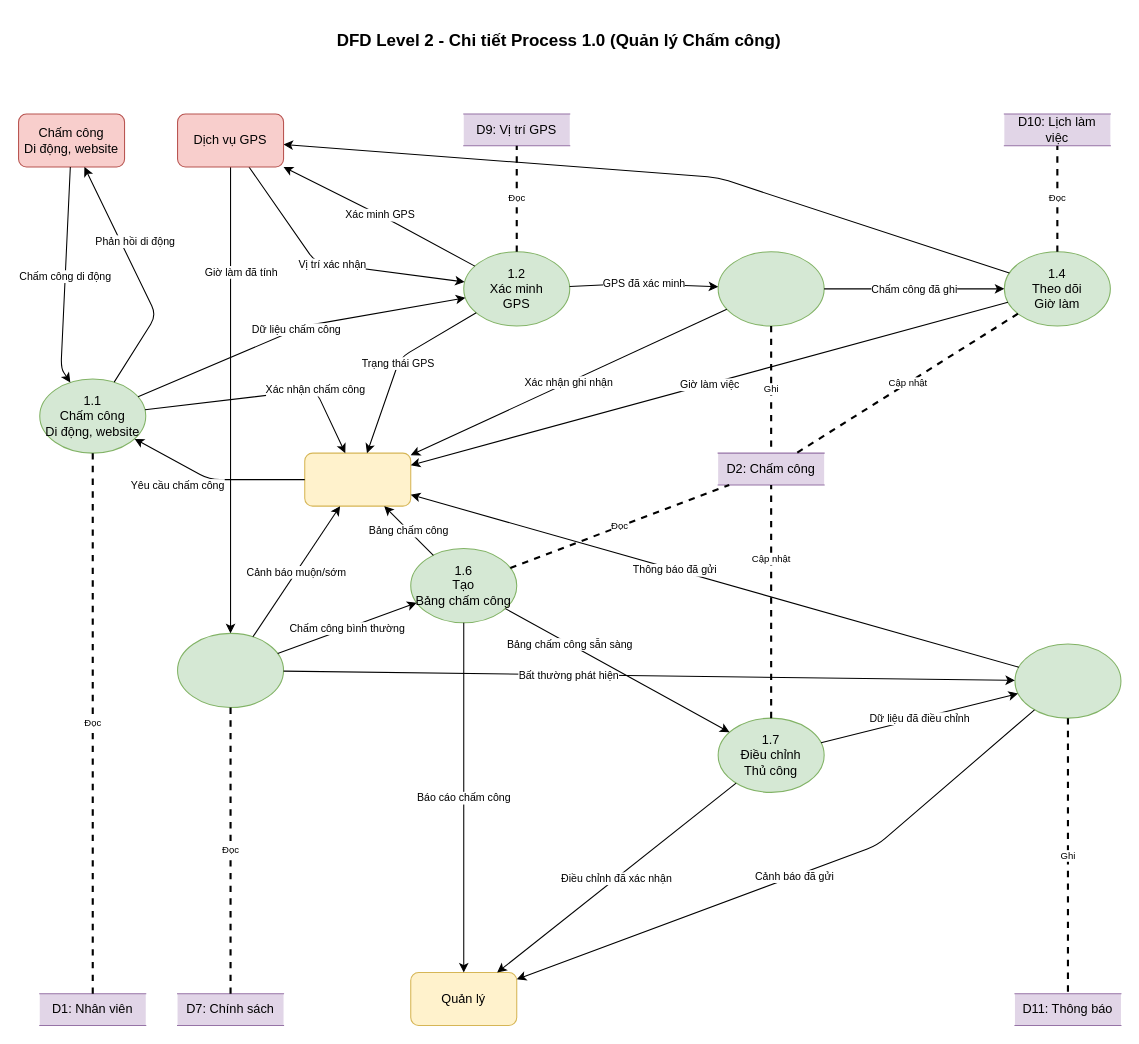
Some shapes in this 1139 by 1044 pixel diagram are drawn without their labels. The centre of each missing label's shape, as x and y in pixels:
"1.3 Ghi nhận Chấm công" belongs at (770,288).
"1.5 Phát hiện Muộn/Sớm" belongs at (230,670).
"1.8 Gửi Thông báo" belongs at (1067,680).
"Nhân viên" belongs at (357,479).
